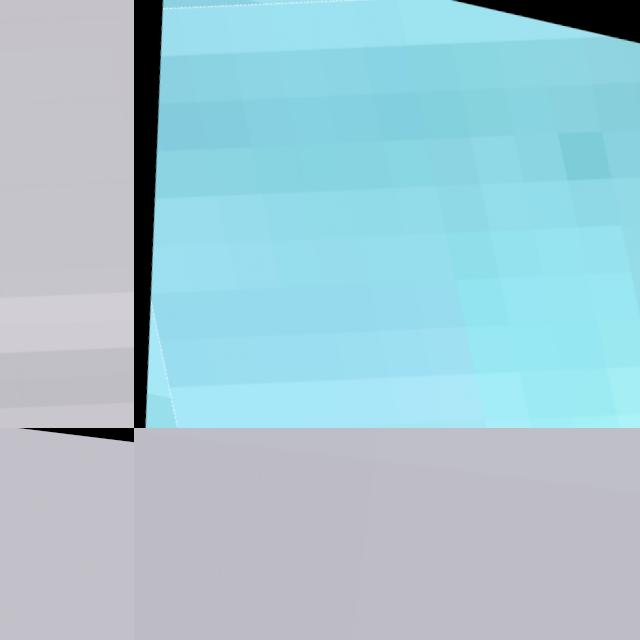0: (0, 0, 134, 428)
drone: (134, 0, 640, 428)
